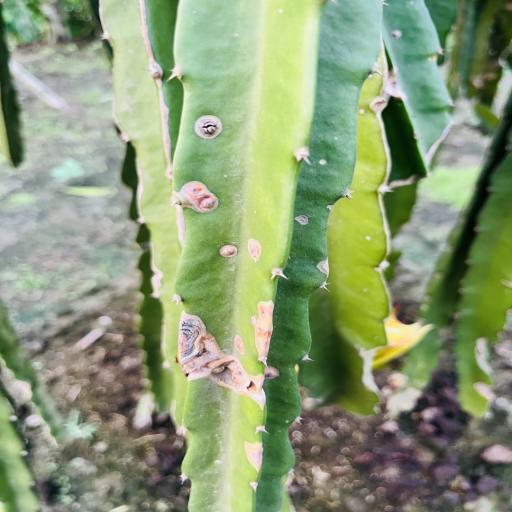stemcanker: (317, 158, 328, 166), (285, 419, 291, 424)
